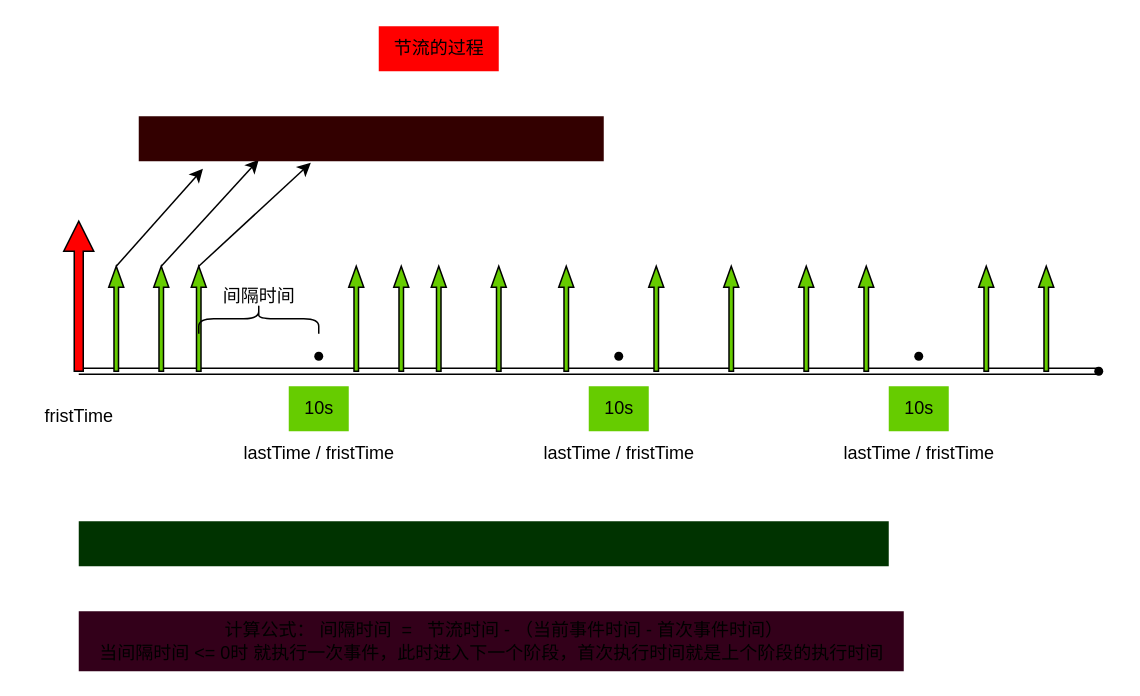
Some shapes in this 1140 by 696 pixel diagram are drawn without their labels. The box of each missing label's shape, as (x1, y1, x2, y2) in pixels:
1.每10s执行一次，不管10s之内触发了多少次，只是在每个阶段的第10s执行当前时间点上的事件: (78, 520, 888, 566)
每个事件触发的的当前时间 new Date().getTime（）: (138, 116, 603, 160)
